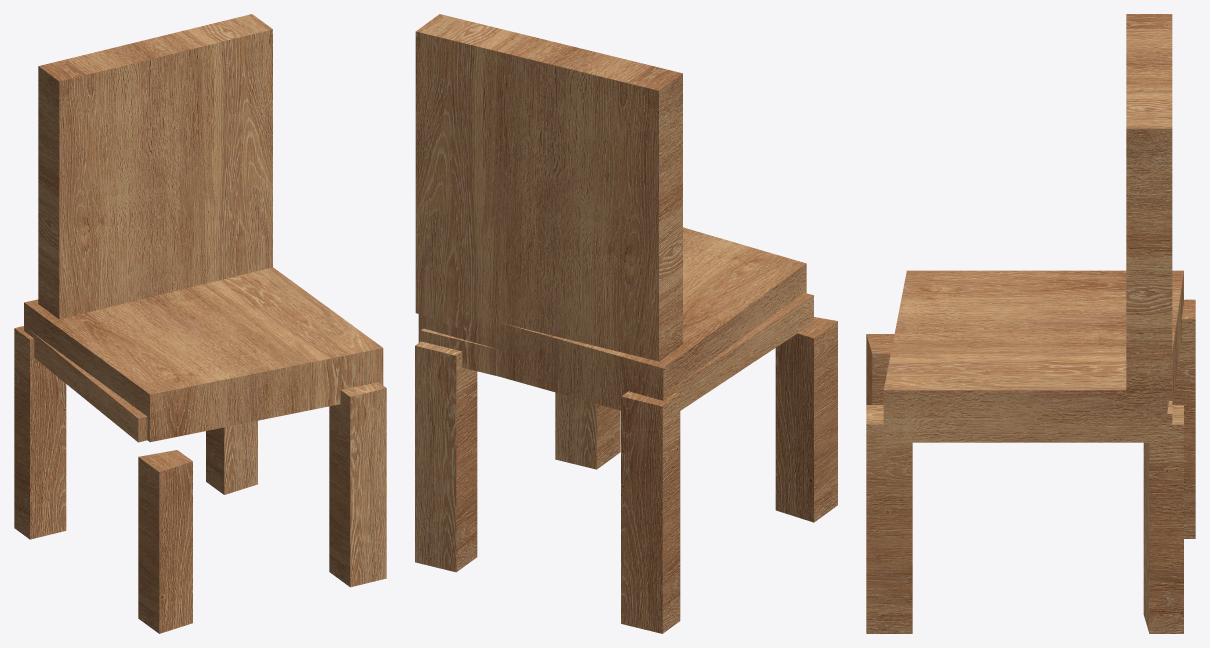
The model's file is 41160_deepcad-end2end.glb.
The picture shows the model from 3 angles, left to right: view 1: azimuth 30°, elevation 25°; view 2: azimuth 150°, elevation 25°; view 3: azimuth 270°, elevation 25°; orthographic projection. The views are drawn at different scales.
Visible parts, largest first — view 1: test_cmd_41160_pred; view 2: test_cmd_41160_pred; view 3: test_cmd_41160_pred.
Boxes of the visible parts, x1,y1,x2,y2 form: test_cmd_41160_pred: (14,14,386,633); test_cmd_41160_pred: (415,14,837,633); test_cmd_41160_pred: (866,14,1195,633).
Size of the model in its own units: 0.5204 by 1 by 0.5816.
Materials: 1 (1 with a texture image).
